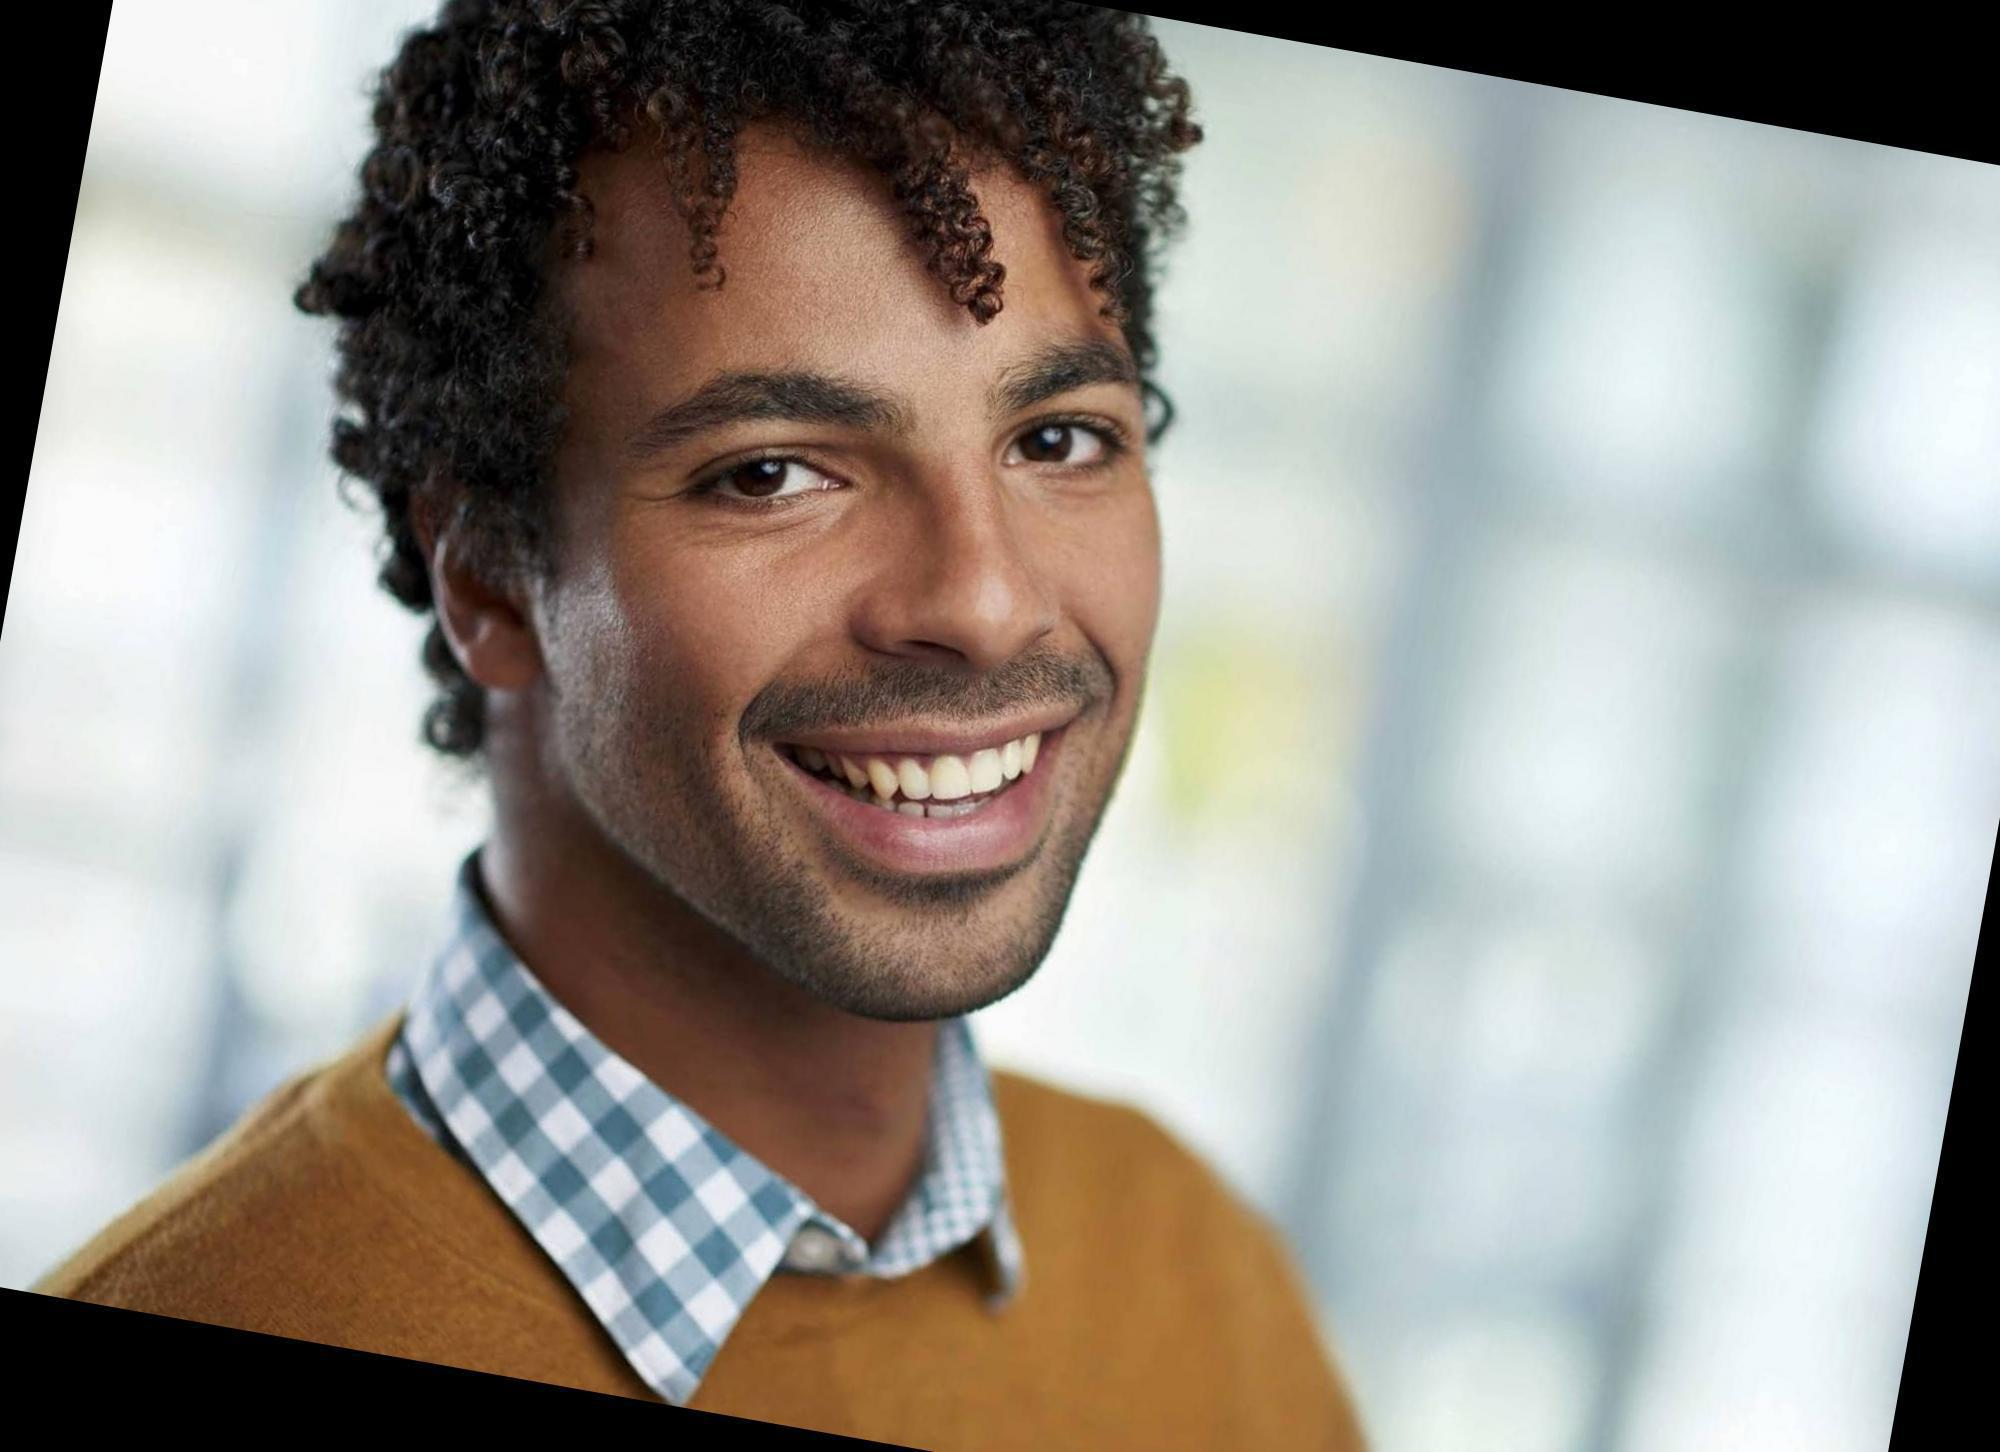Sober: (601, 144, 1137, 986)
